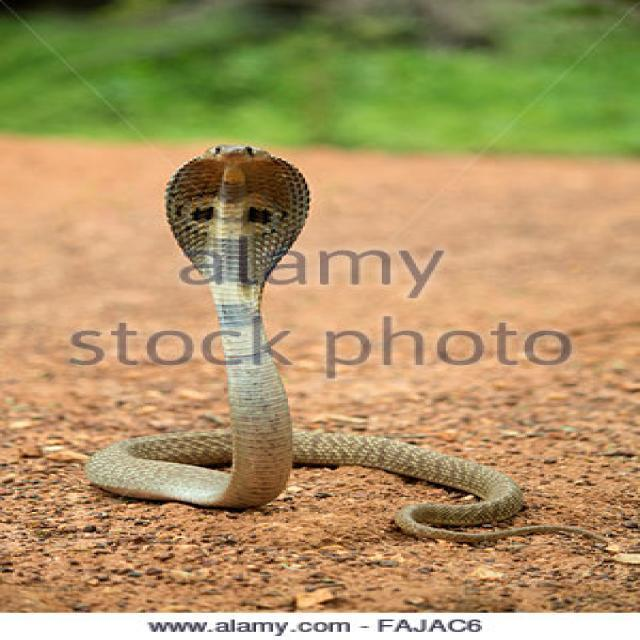Snake: (81, 142, 608, 544)
